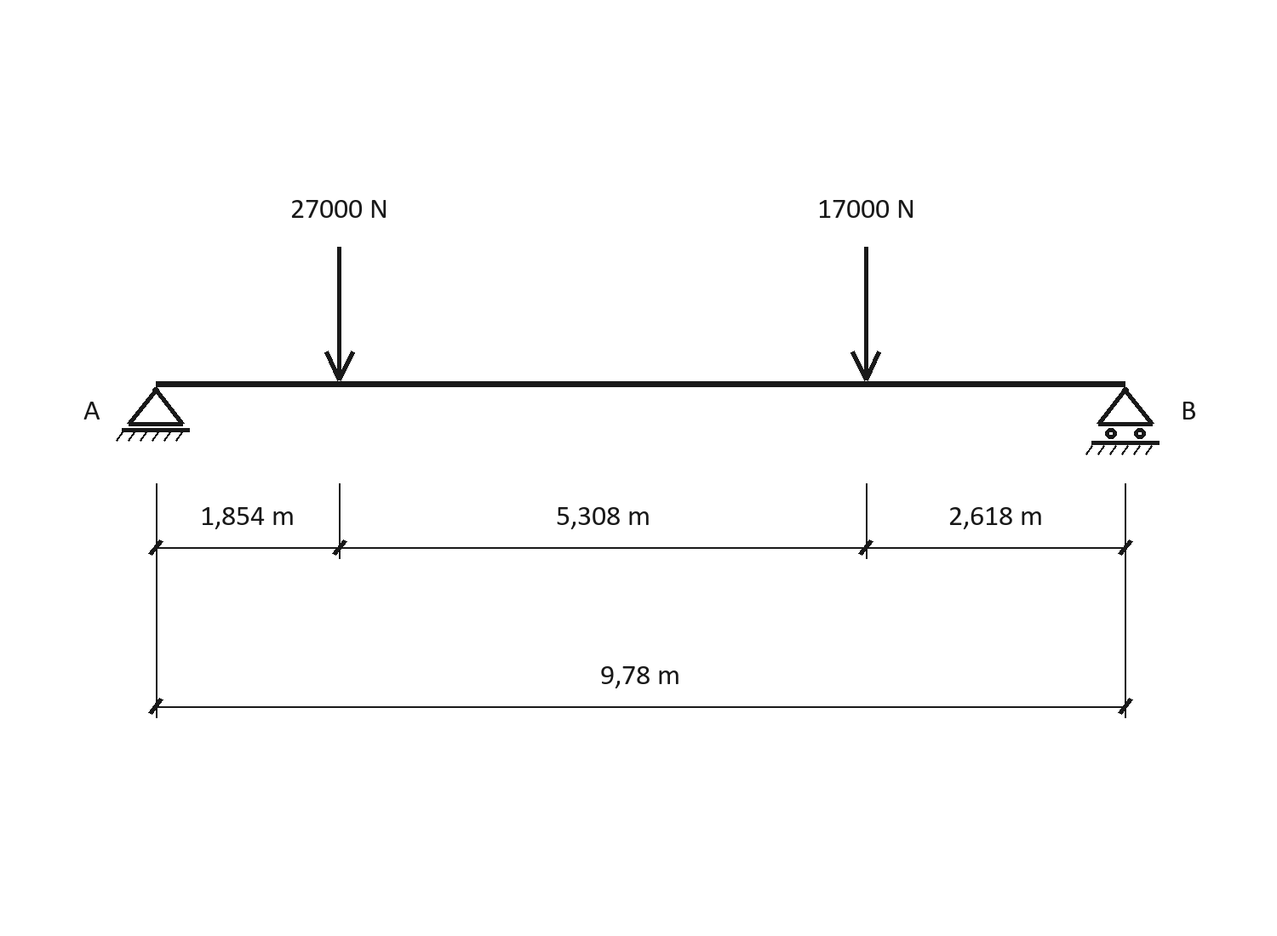pin_support: (116, 387, 190, 442)
point_load: (324, 247, 355, 381), (850, 247, 881, 381)
roller_support: (1085, 387, 1160, 455)
